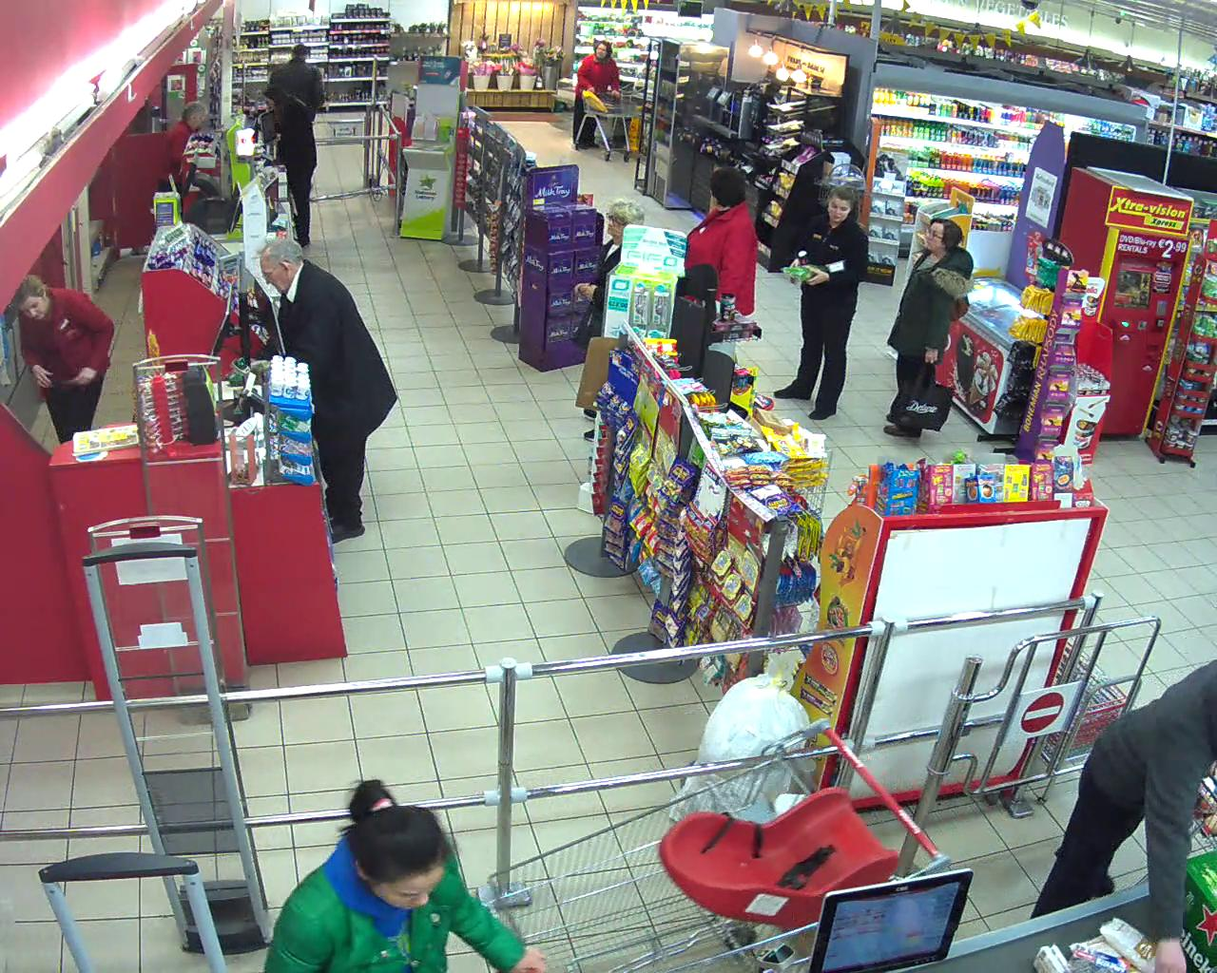backpack-or-handbag: (949, 294, 969, 319)
carrying-item: (780, 248, 846, 285)
empty-trolly: (484, 716, 945, 973)
filled-shopping-bags: (887, 364, 955, 431)
occupied-checkout-counter: (15, 268, 286, 425), (131, 99, 280, 182)
person: (259, 777, 546, 973), (774, 186, 869, 420), (884, 217, 973, 438)
person-with-backpack-handbag-and-shopping-bag-s-: (884, 216, 973, 438)
person-with-carrying-item: (774, 185, 869, 421)
person-with-empty-basket-trolly: (260, 715, 945, 973)
vacant-checkout-counter: (123, 168, 291, 248)
